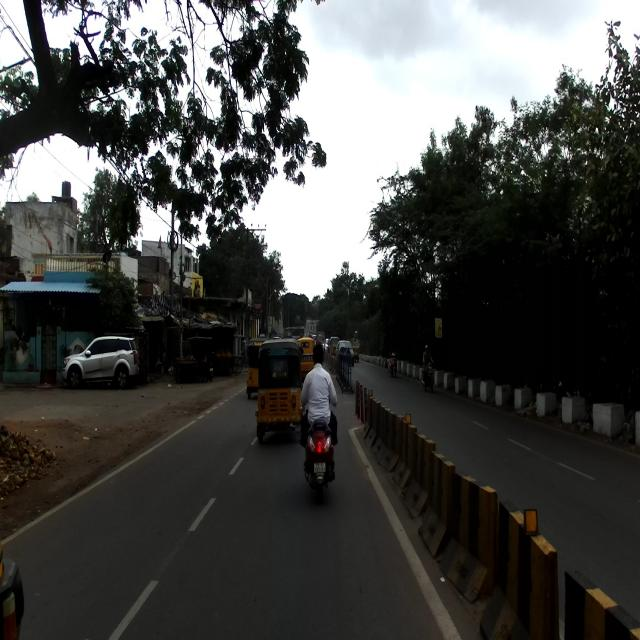Car_Mahindra: (59, 332, 140, 389)
autorickshaw: (253, 338, 304, 446)
scooter: (300, 396, 336, 503)
